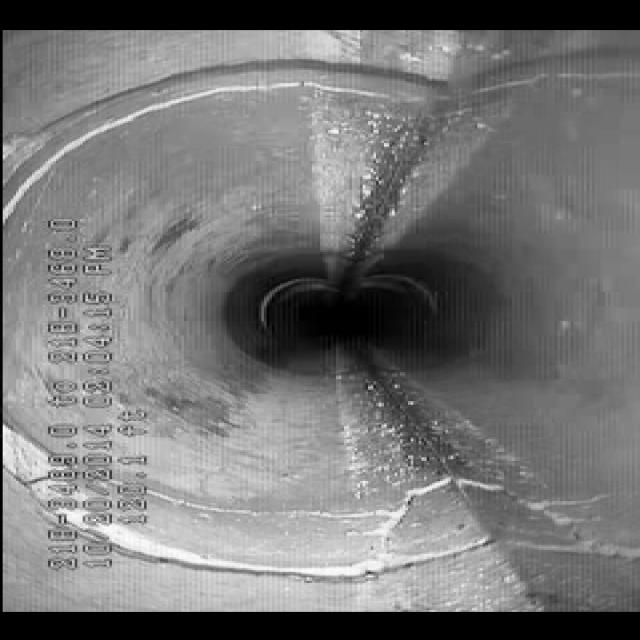Crack: (153, 454, 476, 552)
